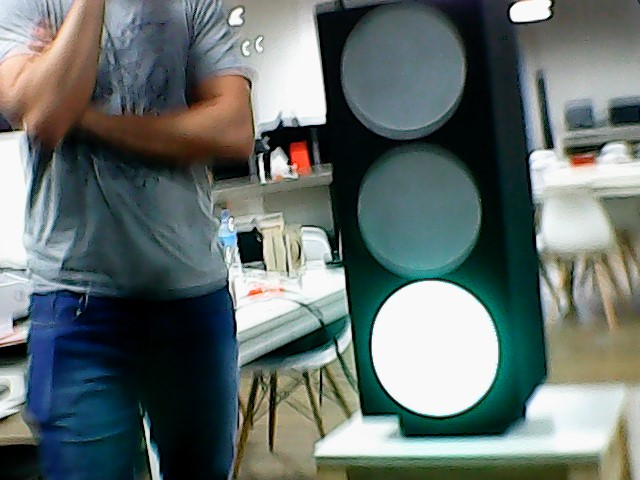verde: (284, 1, 563, 421)
